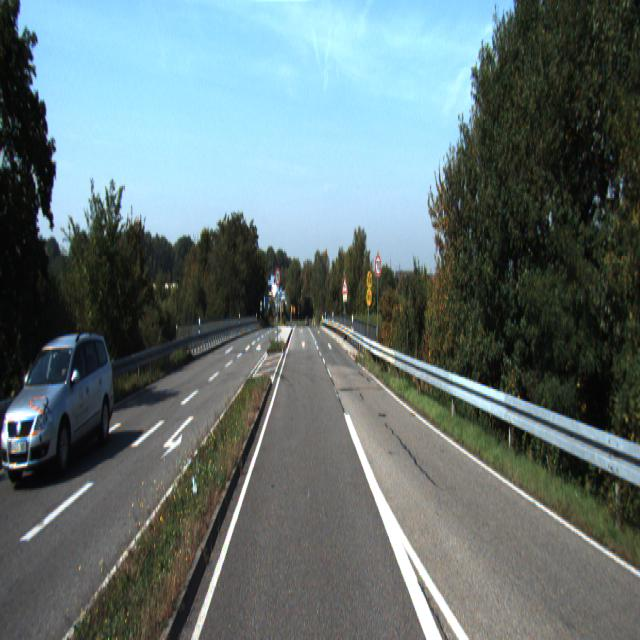Car: (0, 329, 119, 482)
